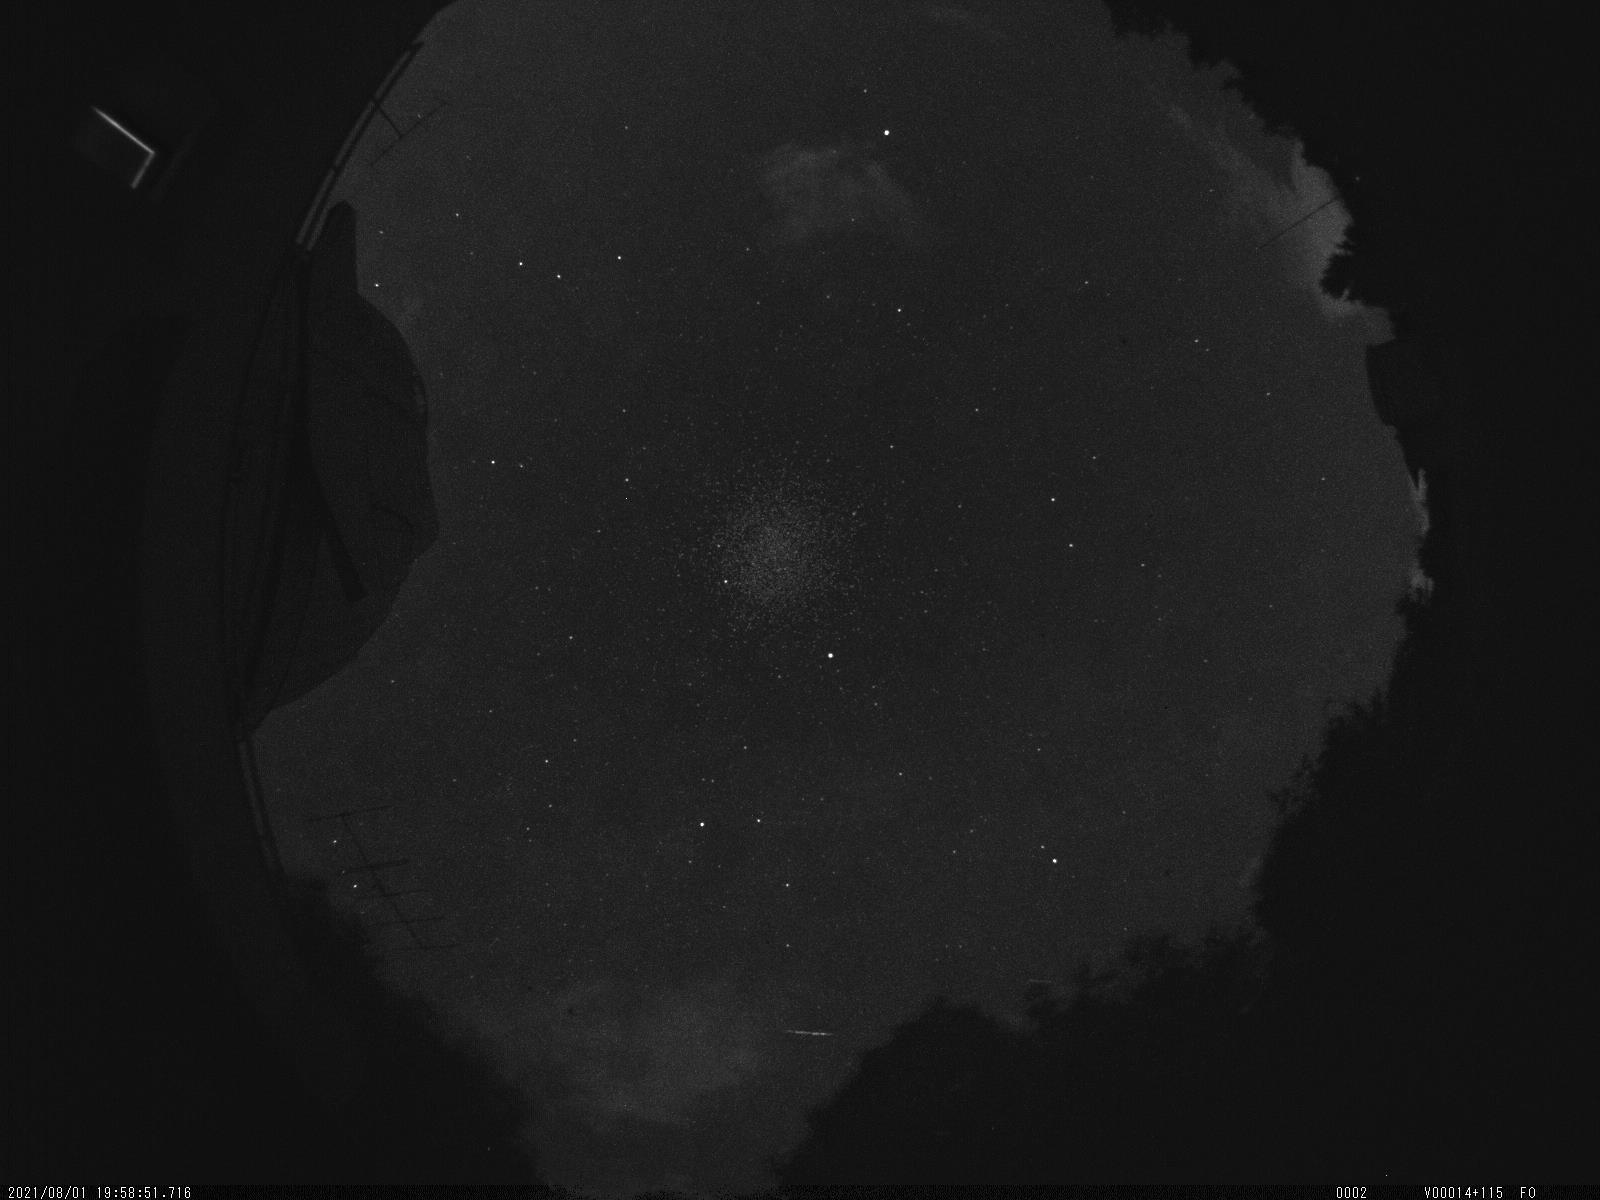Meteor: (770, 1015, 849, 1047)
